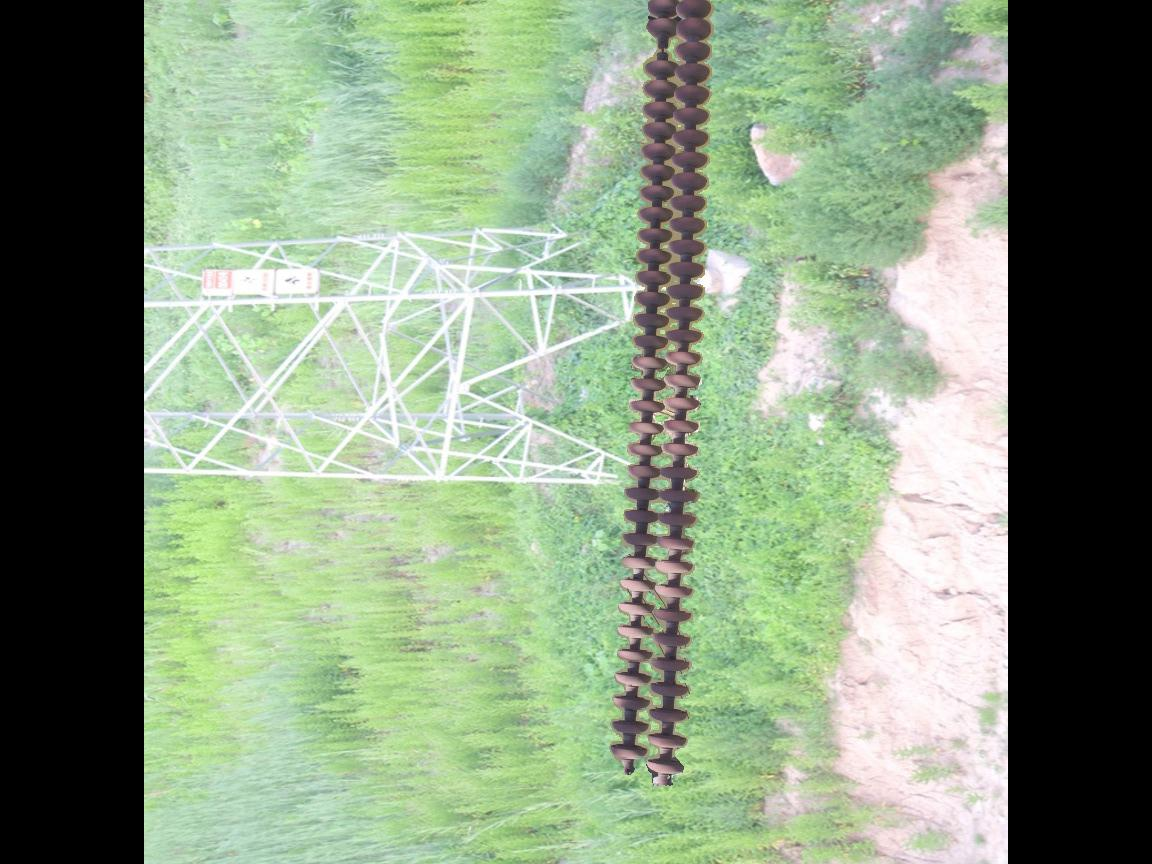insulator: (606, 1, 718, 786)
insulator_stringdrop: (640, 14, 679, 80)
